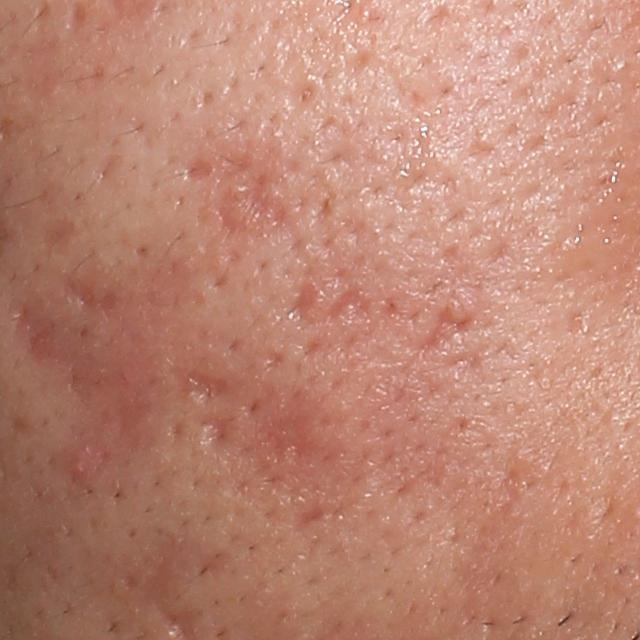atrophic_scar: (287, 274, 494, 407), (10, 303, 170, 448), (192, 395, 359, 529), (189, 140, 301, 246), (333, 45, 466, 127), (54, 274, 132, 315), (180, 359, 231, 412), (32, 216, 72, 260), (85, 152, 123, 187), (413, 0, 450, 31)
